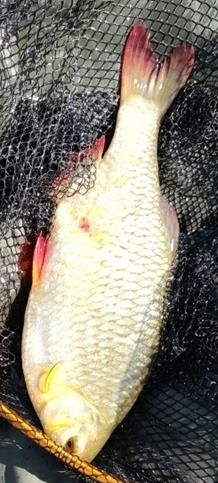Scardinius erythrophthalmus: (20, 20, 198, 463)
